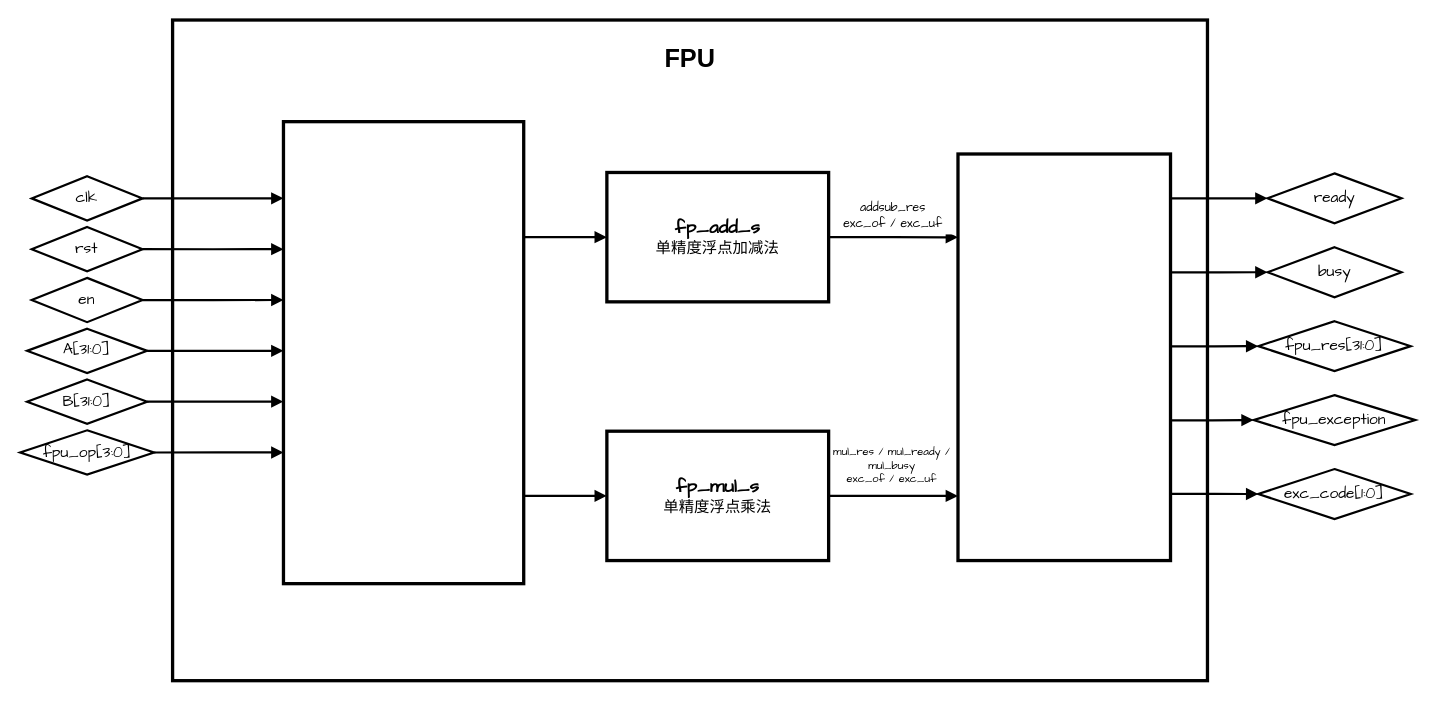
Image size: 1436x702. Some labels were removed from this diagram. The shapes that lost their labels are listed below. From the top down, each one's box as (x1, y1, x2, y2) in pixels, then its label:
(528, 204, 602, 226): A / B / sub
(281, 119, 525, 585): 输入与控制分发 操作译码 addsub_sub mul_start 操作数 A / B
(956, 152, 1172, 562): 结果与异常选择 乘法完成时选择 mul_res 否则选择 result_r 生成 ready / busy 选择 exc_code
(528, 443, 604, 486): clk / rst / start / A / B
